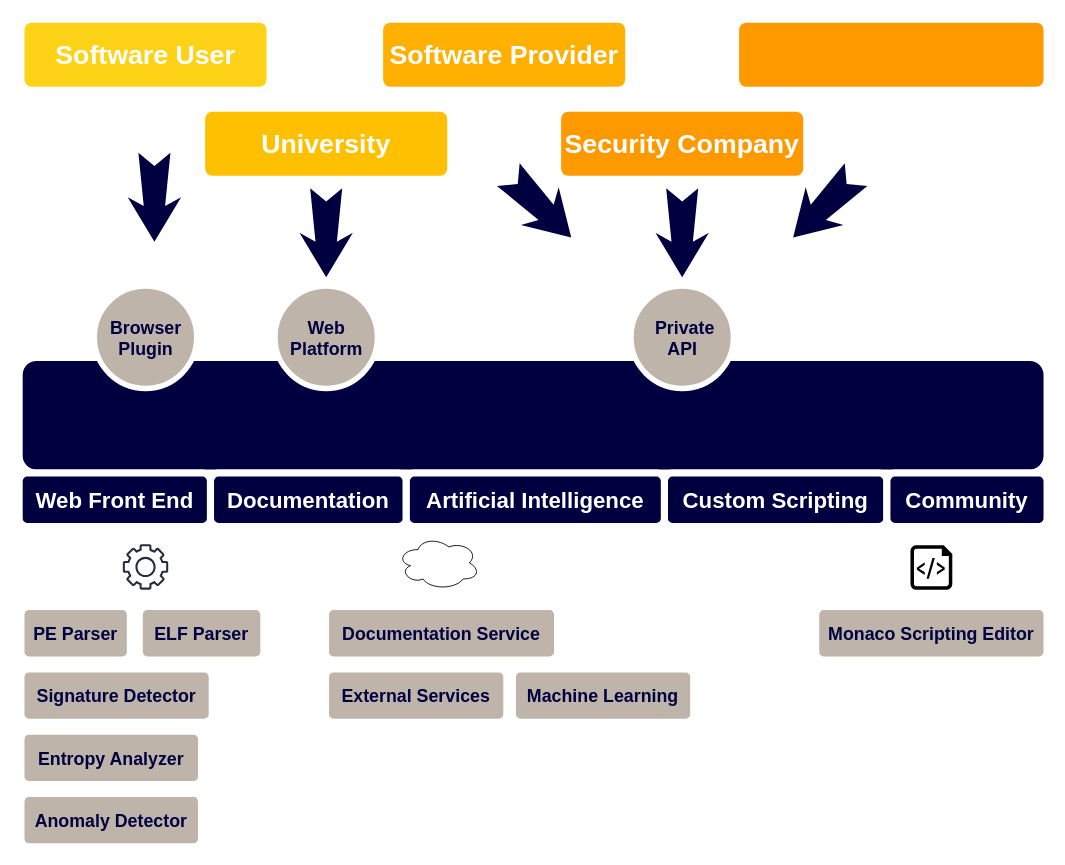
The diagram is 1065 pixels wide and 865 high, and some of its shapes have lost their labels. The centre of each missing label's shape, as x and y in pixels:
"Anti-Malware Company" belongs at (x=891, y=54).
"TRANScurity Platform" belongs at (x=532, y=414).
